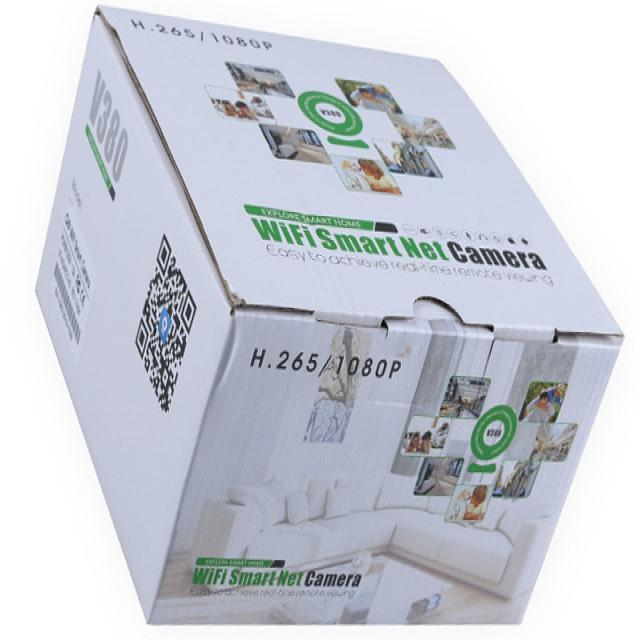Cardboard: (32, 9, 626, 628)
